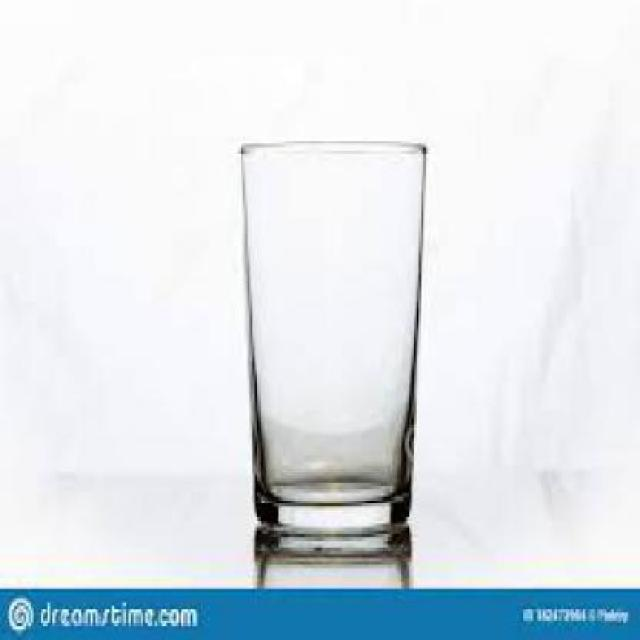kaca: (239, 140, 423, 551)
